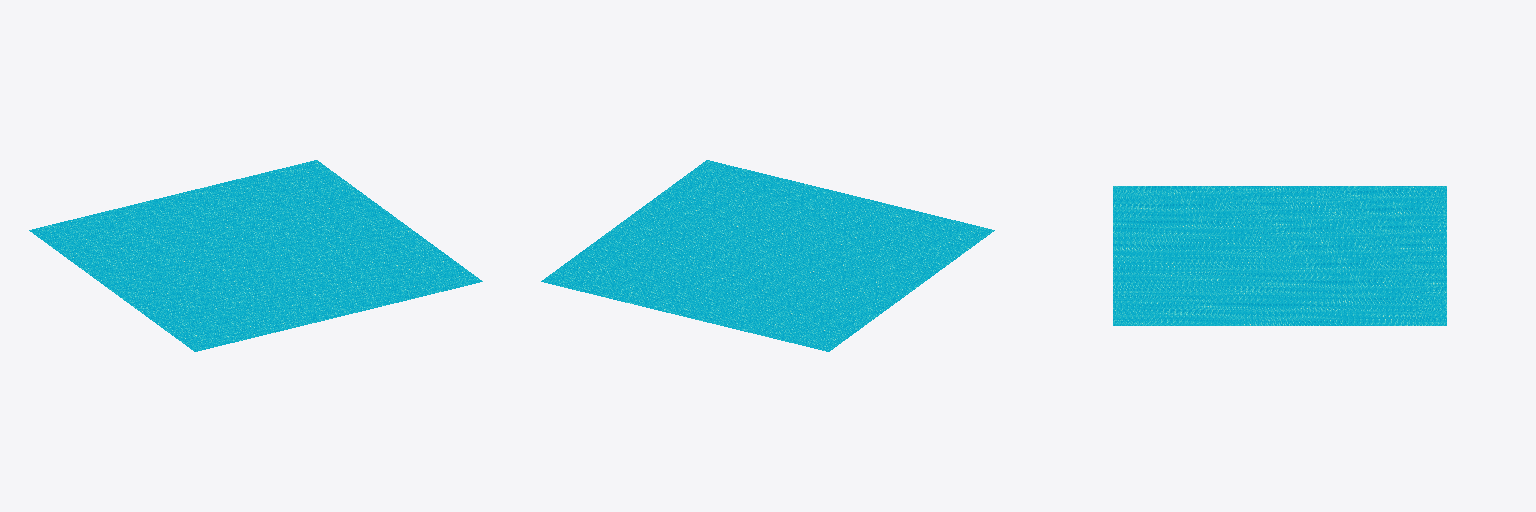
3 renders of one model, left to right at view 1: azimuth 30°, elevation 25°; view 2: azimuth 150°, elevation 25°; view 3: azimuth 270°, elevation 25°, orthographic.
Parts seen in each view (by area): view 1: Plane.002; view 2: Plane.002; view 3: Plane.002.
Part boxes in pixels (x1,y1,x2,y2): Plane.002: (29,160,482,351); Plane.002: (541,160,994,351); Plane.002: (1113,186,1446,325).
Bounding box in the file's own units: 697 × 0 × 697.
1 materials, 1 textured.